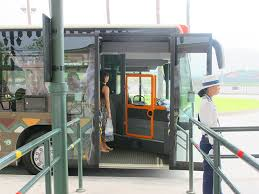entrance: (98, 34, 172, 169)
